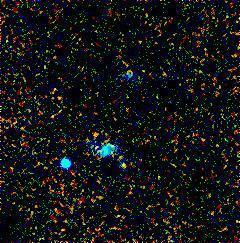star: (106, 153, 136, 183)
